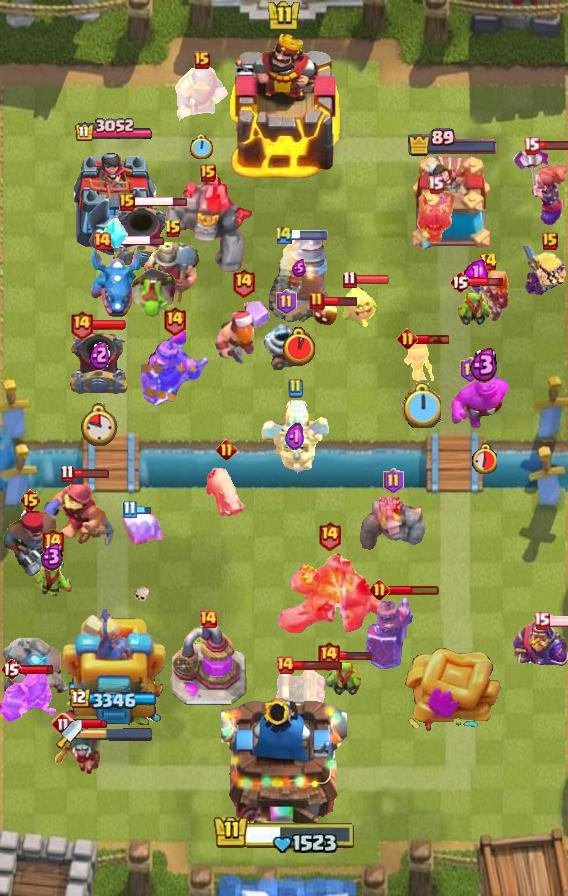bandit: (55, 725, 103, 777)
bar: (110, 234, 165, 247), (133, 195, 188, 208), (387, 584, 440, 596), (293, 660, 343, 671), (469, 275, 504, 288), (72, 718, 108, 730), (415, 333, 451, 345), (91, 319, 127, 331), (338, 649, 373, 661), (323, 295, 358, 307), (18, 664, 55, 675), (73, 468, 110, 479), (354, 274, 390, 285), (291, 230, 329, 240), (537, 140, 568, 151), (547, 615, 568, 627), (134, 504, 152, 516)
bar-level: (316, 640, 341, 671), (40, 527, 65, 558), (317, 520, 342, 551), (69, 309, 94, 340), (162, 305, 187, 336), (231, 267, 256, 298), (51, 712, 75, 736), (19, 488, 42, 512), (383, 468, 404, 494), (460, 357, 481, 383), (276, 289, 297, 315), (0, 657, 22, 681), (449, 270, 471, 294), (369, 579, 390, 600), (216, 439, 237, 460), (397, 328, 418, 349), (274, 224, 294, 245), (275, 655, 295, 675), (198, 609, 218, 629), (92, 231, 112, 251), (479, 252, 498, 272), (164, 219, 182, 239), (533, 611, 550, 630), (427, 175, 444, 194), (523, 136, 540, 155), (287, 378, 303, 398), (309, 291, 325, 311), (542, 232, 558, 250), (119, 193, 135, 211), (200, 164, 216, 182), (194, 51, 210, 69), (122, 500, 137, 519), (60, 464, 75, 483), (342, 270, 357, 289)
barbarian-evolution: (522, 246, 568, 295)
clock: (402, 383, 441, 428), (81, 403, 118, 446), (283, 327, 315, 366), (471, 443, 497, 474), (190, 134, 214, 161)
dagger-duchess-tower: (62, 601, 166, 731)
dagger-duchess-tower-bar: (82, 727, 154, 741)
electro-dragon: (88, 243, 146, 319)
elixir: (469, 346, 499, 383), (40, 542, 64, 571), (464, 259, 488, 287), (89, 340, 110, 370), (285, 422, 305, 453), (292, 259, 306, 277)
elixir-golem-mid: (450, 374, 518, 430)
fire-spirit: (312, 297, 340, 327)
goblin: (31, 559, 73, 597), (324, 655, 362, 695), (457, 285, 495, 325)
goblin-ball: (129, 265, 179, 325)
golemite: (0, 638, 70, 706), (360, 497, 426, 557)
heal-spirit: (340, 283, 380, 327)
hog: (204, 464, 248, 520)
hunter: (0, 508, 60, 580)
ice-spirit-evolution: (120, 507, 166, 549)
ice-spirit-evolution-symbol: (103, 218, 129, 250)
king-tower: (226, 33, 342, 181), (221, 690, 347, 826)
king-tower-bar: (212, 811, 356, 853)
knight: (175, 65, 229, 121)
knight-evolution: (512, 618, 568, 667)
lumberjack: (213, 295, 273, 369)
miner: (142, 236, 204, 306)
mortar: (68, 330, 130, 398), (111, 204, 173, 272)
queen-tower: (71, 145, 157, 256), (407, 156, 499, 256)
skeleton-evolution: (403, 341, 439, 381)
tesla: (273, 661, 327, 711)
tower-bar: (407, 128, 499, 157), (70, 688, 159, 711), (74, 118, 154, 143)
valkyrie: (465, 271, 511, 325)
valkyrie-evolution: (511, 149, 568, 228), (0, 666, 58, 726)
zappy: (262, 316, 310, 370)
